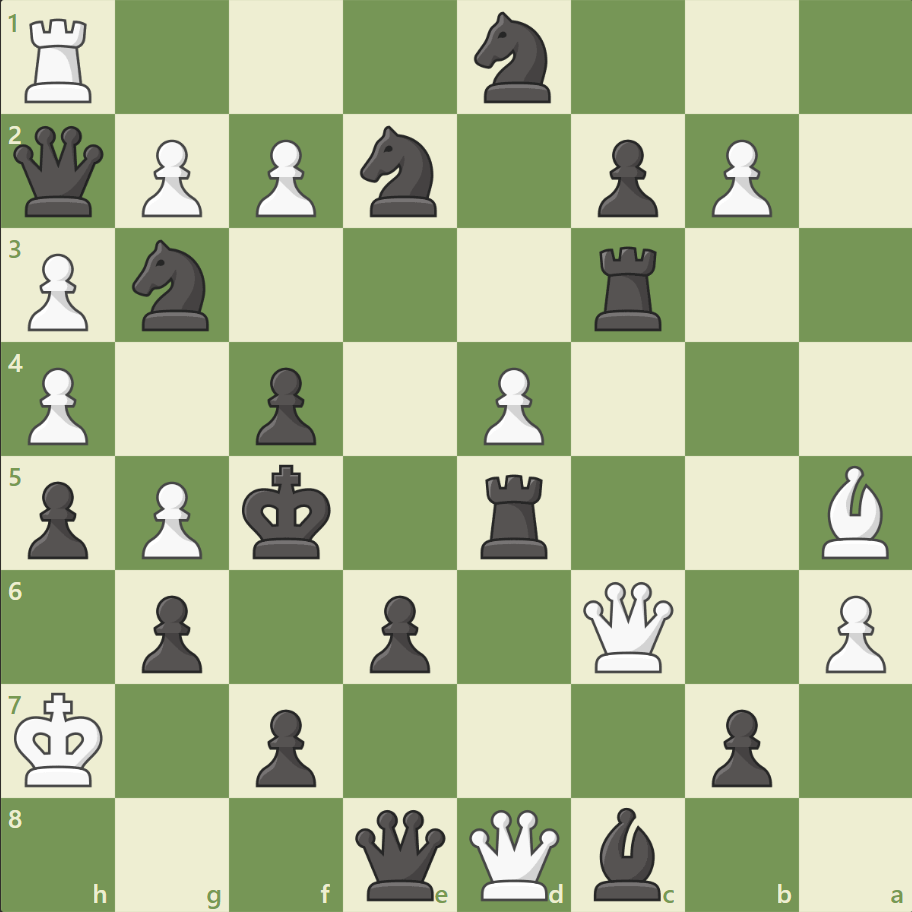B: (812, 460, 896, 563)
K: (11, 685, 111, 793)
P: (133, 473, 208, 564), (474, 359, 549, 450), (20, 359, 95, 450), (20, 246, 95, 337), (701, 132, 776, 223), (247, 132, 322, 223), (133, 132, 208, 223), (815, 586, 889, 677)
Q: (578, 576, 677, 676), (464, 804, 563, 903)
R: (19, 12, 102, 109)
b: (585, 801, 669, 904)
k: (238, 458, 338, 566)
n: (124, 234, 222, 337), (351, 121, 449, 223), (465, 7, 562, 110)
p: (701, 700, 776, 791), (247, 700, 322, 791), (133, 586, 208, 677), (20, 473, 95, 564), (247, 359, 322, 450), (361, 586, 435, 677), (588, 132, 662, 223)
q: (10, 122, 109, 222), (351, 804, 450, 903)
r: (473, 466, 556, 563), (587, 239, 670, 336)
